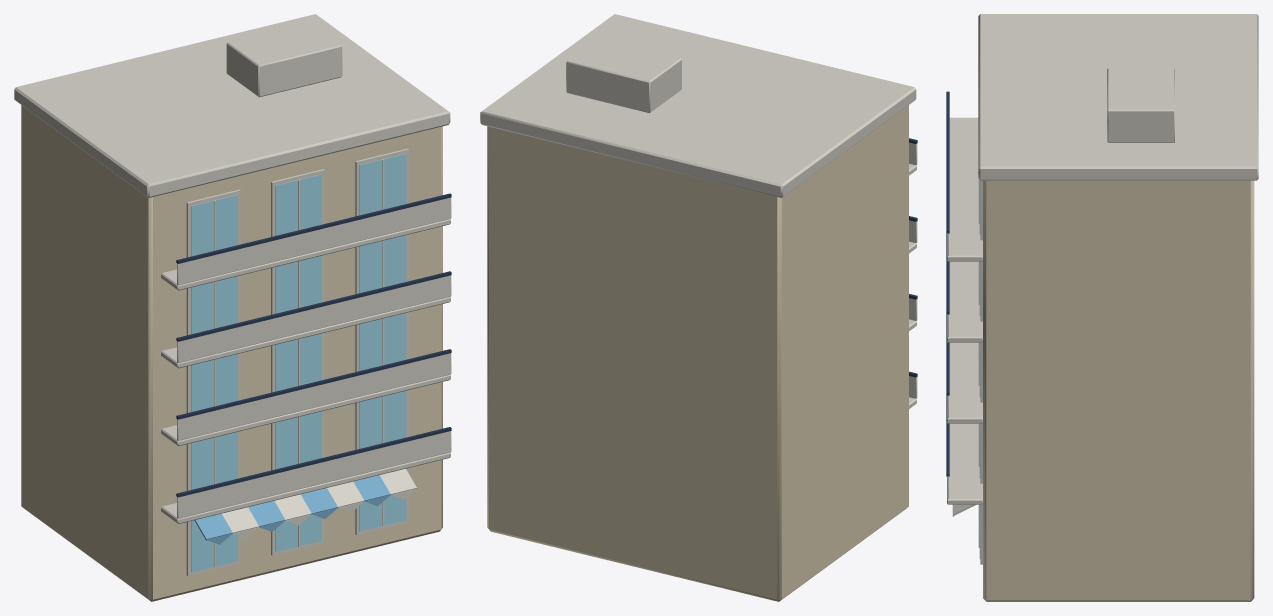
The model's file is 134_residence_balneaire.fbx.
3 renders of one model, left to right at view 1: azimuth 30°, elevation 25°; view 2: azimuth 150°, elevation 25°; view 3: azimuth 270°, elevation 25°, orthographic. The views are drawn at different scales.
Parts seen in each view (by area): view 1: Murs, Balcons, Vitres; view 2: Murs, Balcons; view 3: Murs, Balcons, Vitres.
Part boxes in pixels (left/top/right/bottom): Murs: left=14, top=14, right=450, bottom=601; Balcons: left=161, top=193, right=451, bottom=523; Vitres: left=191, top=153, right=406, bottom=572; Murs: left=480, top=14, right=916, bottom=601; Balcons: left=909, top=138, right=917, bottom=408; Murs: left=952, top=14, right=1258, bottom=601; Balcons: left=946, top=91, right=982, bottom=504; Vitres: left=979, top=180, right=980, bottom=558.
Bounding box in the file's own units: 3.92 × 5.6 × 3.36.
1 material, 1 textured.
